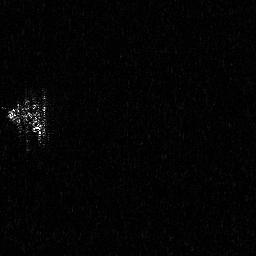ship: (1, 89, 51, 153)
